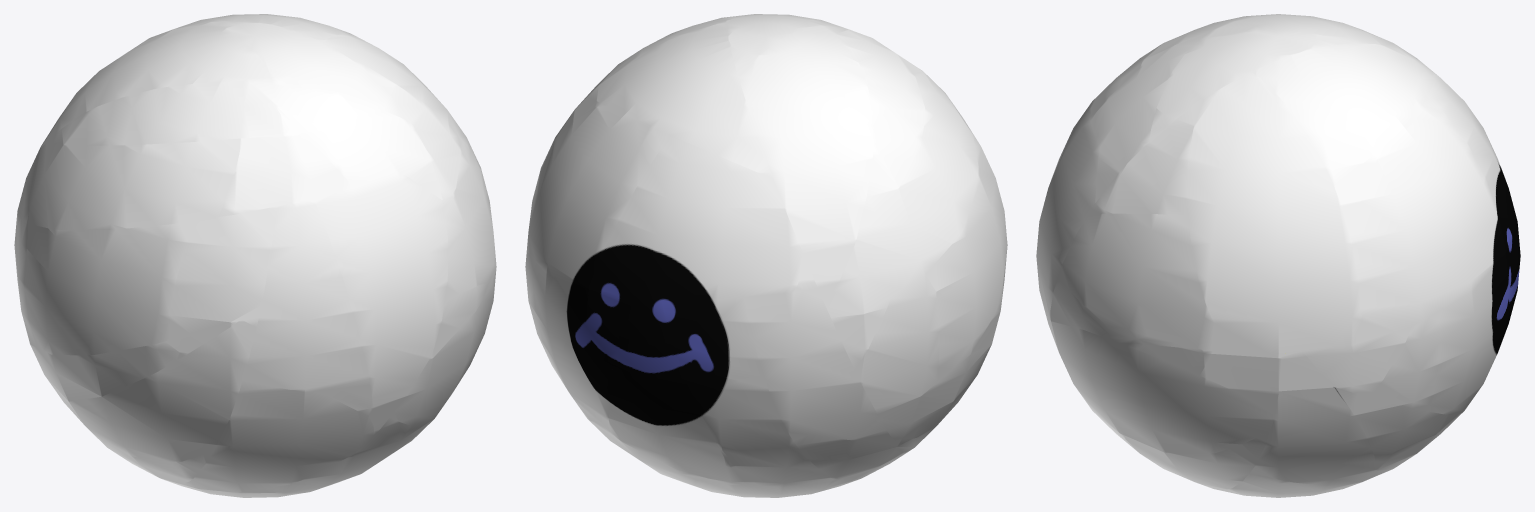
Rendered from Player2Fragments.fbx.
3 renders of one model, left to right at view 1: azimuth 30°, elevation 25°; view 2: azimuth 150°, elevation 25°; view 3: azimuth 270°, elevation 25°, orthographic.
Parts seen in each view (by area): view 1: shard21, shard66, shard53, shard56, shard78, shard69, shard36, shard35, shard32, shard18, shard45, shard29 (+15 smaller); view 2: shard31, shard32, shard53, shard77, shard37, shard39, shard64, shard66, shard22, shard48, shard46, shard36 (+10 smaller); view 3: shard25, shard77, shard17, shard29, shard37, shard30, shard22, shard45, shard21, shard57, shard18, shard34 (+14 smaller).
Part boxes in pixels (x1,y1,x2,y2): shard21: (313, 172, 447, 434); shard66: (24, 220, 195, 355); shard53: (17, 138, 242, 229); shard56: (242, 198, 369, 392); shard78: (57, 319, 256, 462); shard69: (181, 380, 373, 492); shard36: (47, 82, 291, 145); shard35: (168, 206, 276, 340); shard32: (39, 22, 279, 149); shard18: (252, 83, 430, 186); shard45: (209, 21, 410, 122); shard29: (445, 135, 495, 300); shard31: (588, 135, 805, 299); shard32: (738, 24, 873, 306); shard53: (826, 54, 979, 323); shard77: (526, 106, 670, 288); shard37: (588, 22, 773, 178); shard39: (744, 287, 888, 440); shard64: (609, 295, 746, 484); shard66: (933, 126, 1006, 380); shard22: (532, 259, 628, 432); shard48: (678, 359, 837, 487); shard46: (855, 265, 938, 414); shard36: (837, 30, 924, 226); shard25: (1187, 72, 1361, 353); shard77: (1349, 97, 1505, 341); shard17: (1050, 321, 1275, 453); shard29: (1058, 213, 1229, 351); shard37: (1252, 43, 1433, 185); shard30: (1252, 351, 1376, 485); shard22: (1426, 225, 1515, 414); shard45: (1149, 31, 1352, 141); shard21: (1036, 105, 1100, 341); shard57: (1088, 99, 1203, 216); shard18: (1090, 31, 1210, 170); shard34: (1333, 386, 1455, 464).
Bounding box in the file's own units: 20 × 20 × 20.
